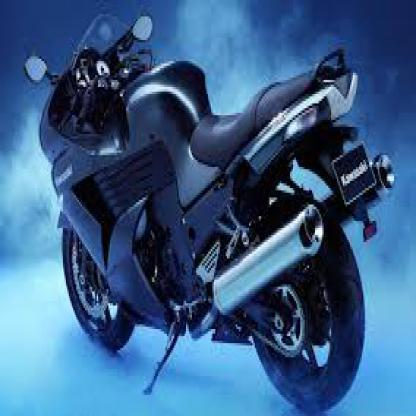Motorcycle: (19, 0, 398, 414)
